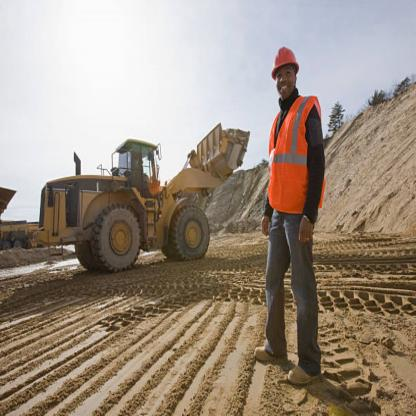bull_dozer/loader/grader: (38, 108, 249, 285)
person: (254, 44, 331, 381)
